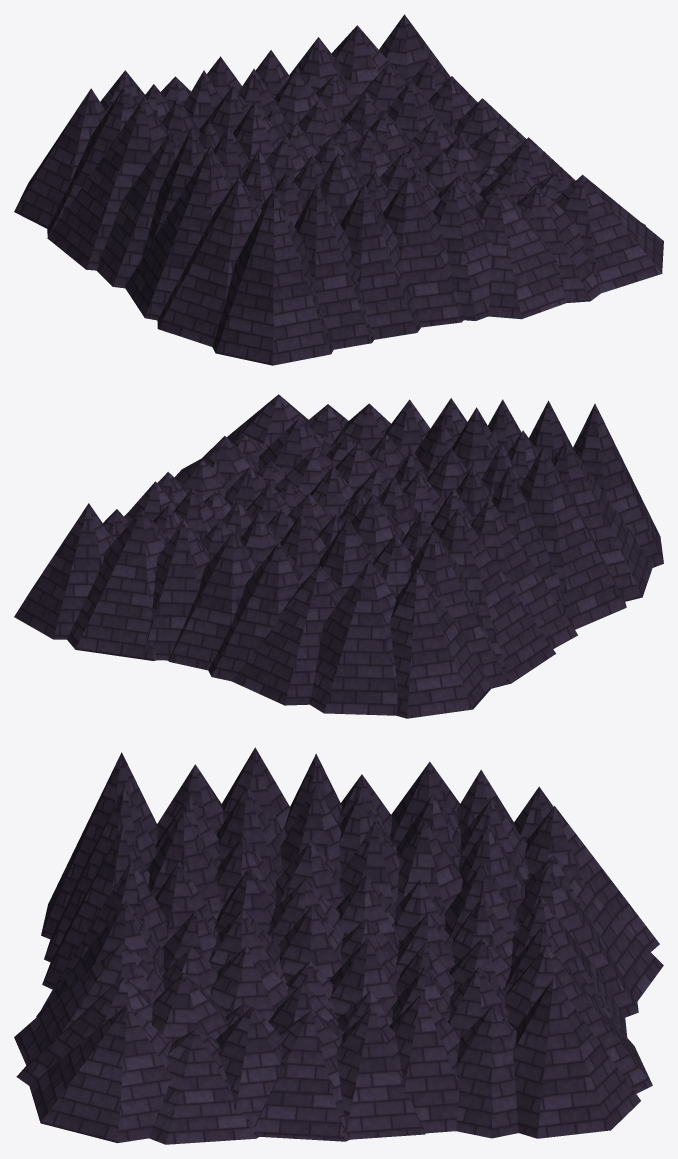
File: chunk_0_24.glb
3 views of the same model, one above another, from view 1: azimuth 30°, elevation 25°; view 2: azimuth 150°, elevation 25°; view 3: azimuth 270°, elevation 25° (orthographic). The views are drawn at different scales.
Visible parts, largest first — view 1: chunk_0_24; view 2: chunk_0_24; view 3: chunk_0_24.
Boxes of the visible parts, x1=… form: chunk_0_24: x1=14, y1=14, x2=663, y2=365; chunk_0_24: x1=14, y1=394, x2=663, y2=718; chunk_0_24: x1=14, y1=747, x2=663, y2=1144.
Size of the model in its own units: 21.17 by 6.34 by 21.68.
Materials: 3 (3 with a texture image).
